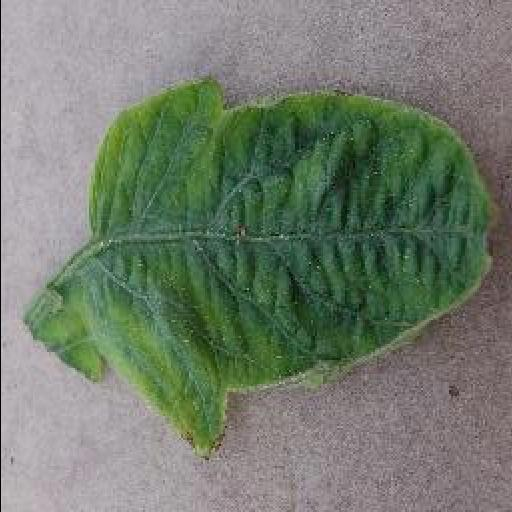disease_tomato: (68, 80, 494, 462)
